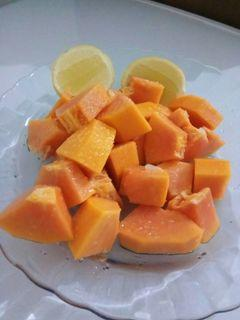buah_sayur_vitA: (50, 97, 203, 241)
